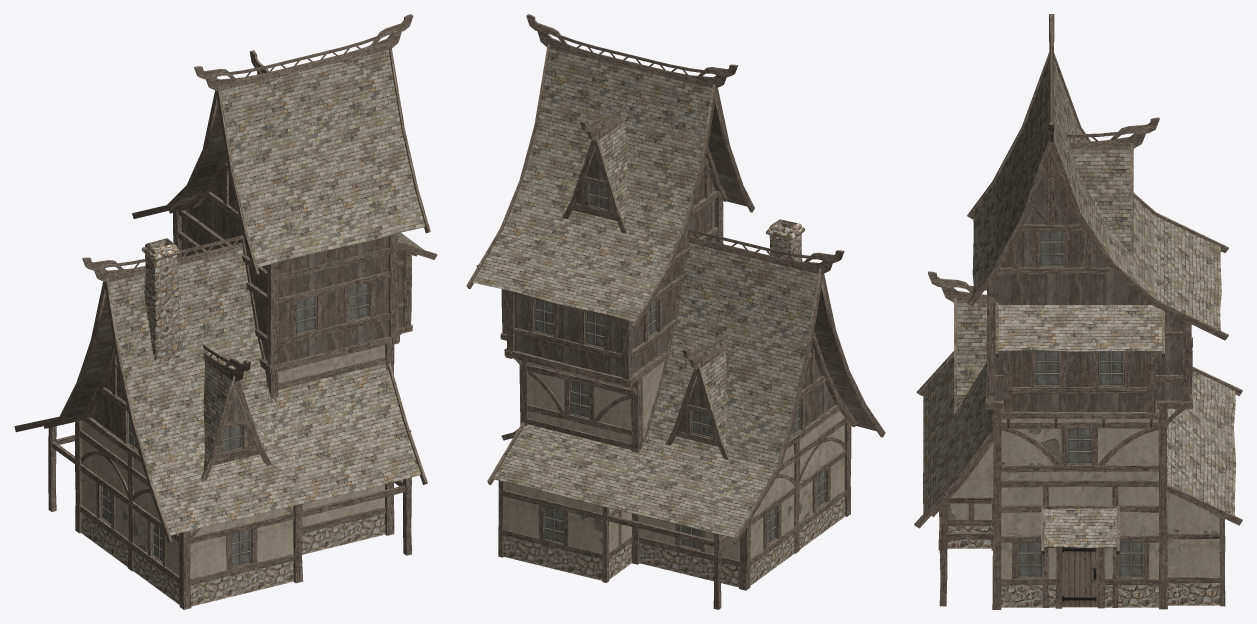
The model's file is mw_type_2_cottage_02.FBX.
3 renders of one model, left to right at view 1: azimuth 30°, elevation 25°; view 2: azimuth 150°, elevation 25°; view 3: azimuth 270°, elevation 25°, orthographic. The views are drawn at different scales.
Parts seen in each view (by area): view 1: mw_type_2_cottage_building_02_roof, mw_type_2_cottage_building_02_wood, mw_type_2_cottage_building_02_wall, mw_type_2_cottage_building_02_stone_01, mw_type_2_cottage_building_02; view 2: mw_type_2_cottage_building_02_roof, mw_type_2_cottage_building_02_wood, mw_type_2_cottage_building_02_wall, mw_type_2_cottage_building_02_stone_01, mw_type_2_cottage_building_02; view 3: mw_type_2_cottage_building_02_wood, mw_type_2_cottage_building_02_roof, mw_type_2_cottage_building_02_wall, mw_type_2_cottage_building_02, mw_type_2_cottage_building_02_stone_01.
Part boxes in pixels (bbox=[...]): mw_type_2_cottage_building_02_roof: bbox=[65, 50, 425, 535]; mw_type_2_cottage_building_02_wood: bbox=[14, 14, 437, 609]; mw_type_2_cottage_building_02_wall: bbox=[81, 345, 385, 578]; mw_type_2_cottage_building_02_stone_01: bbox=[81, 238, 385, 606]; mw_type_2_cottage_building_02: bbox=[101, 283, 369, 567]; mw_type_2_cottage_building_02_roof: bbox=[472, 48, 876, 537]; mw_type_2_cottage_building_02_wood: bbox=[466, 14, 885, 609]; mw_type_2_cottage_building_02_wall: bbox=[503, 361, 844, 560]; mw_type_2_cottage_building_02_stone_01: bbox=[503, 219, 845, 587]; mw_type_2_cottage_building_02: bbox=[534, 183, 826, 550]; mw_type_2_cottage_building_02_wood: bbox=[914, 14, 1242, 609]; mw_type_2_cottage_building_02_roof: bbox=[923, 59, 1236, 548]; mw_type_2_cottage_building_02_wall: bbox=[947, 409, 1219, 578]; mw_type_2_cottage_building_02: bbox=[1017, 231, 1143, 607]; mw_type_2_cottage_building_02_stone_01: bbox=[947, 525, 1219, 607].
Bounding box in the file's own units: 1483 × 2105 × 1232.
